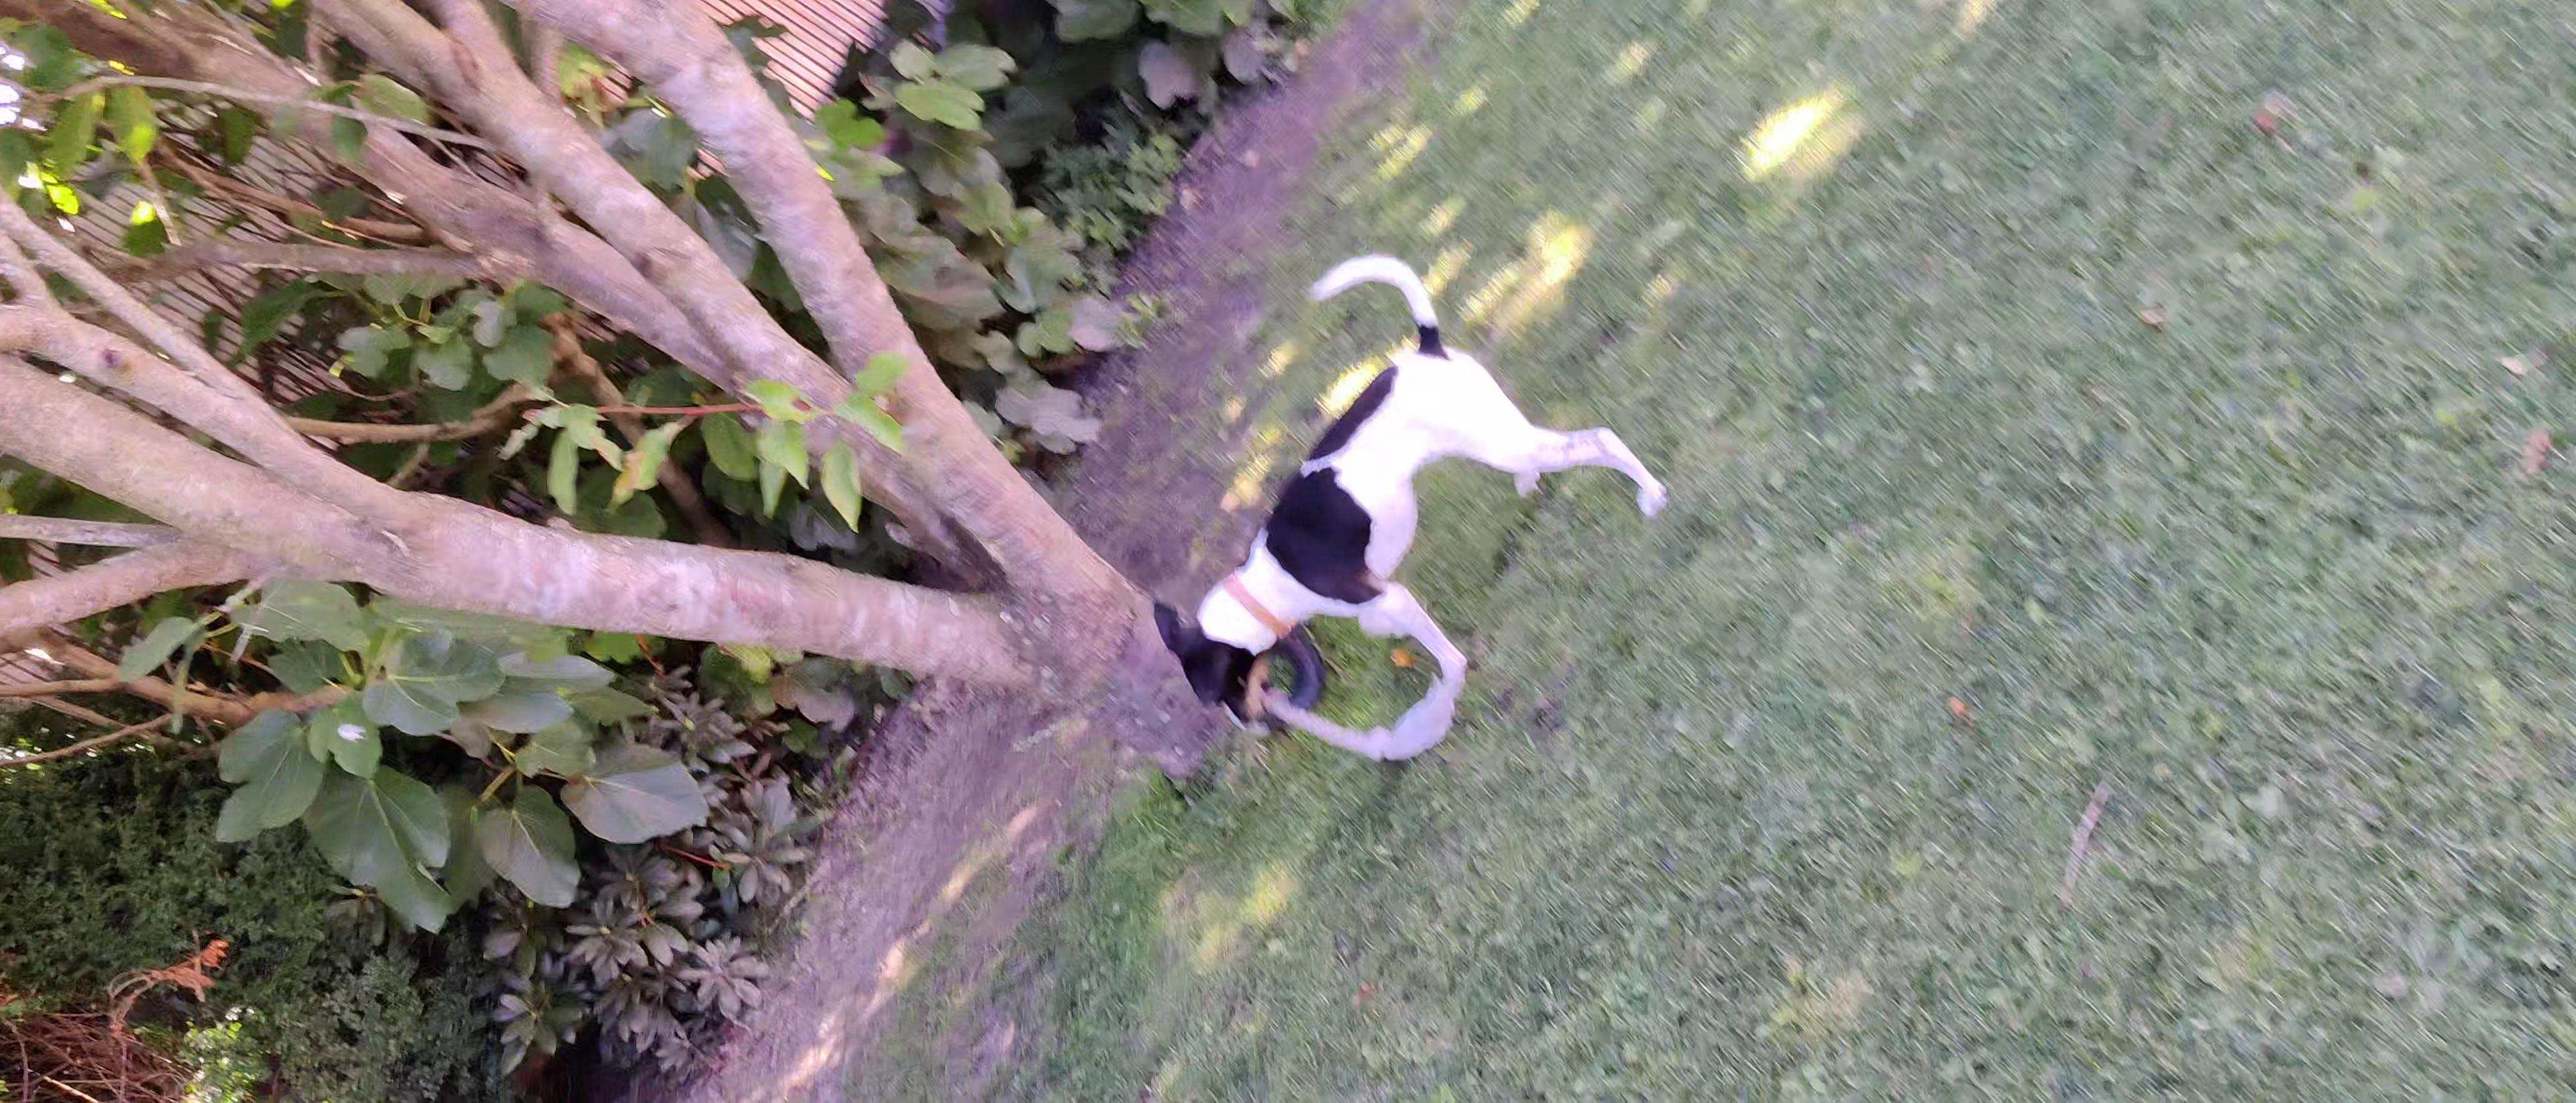Dog: (1124, 240, 1704, 764)
